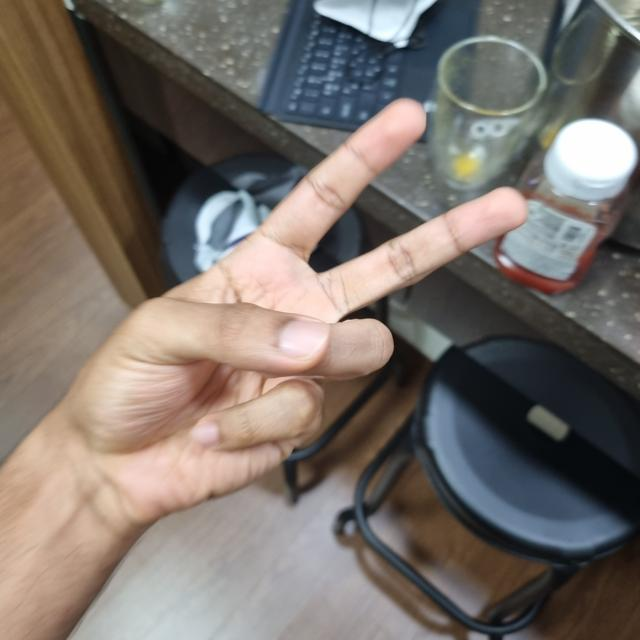Scissors: (63, 101, 530, 516)
